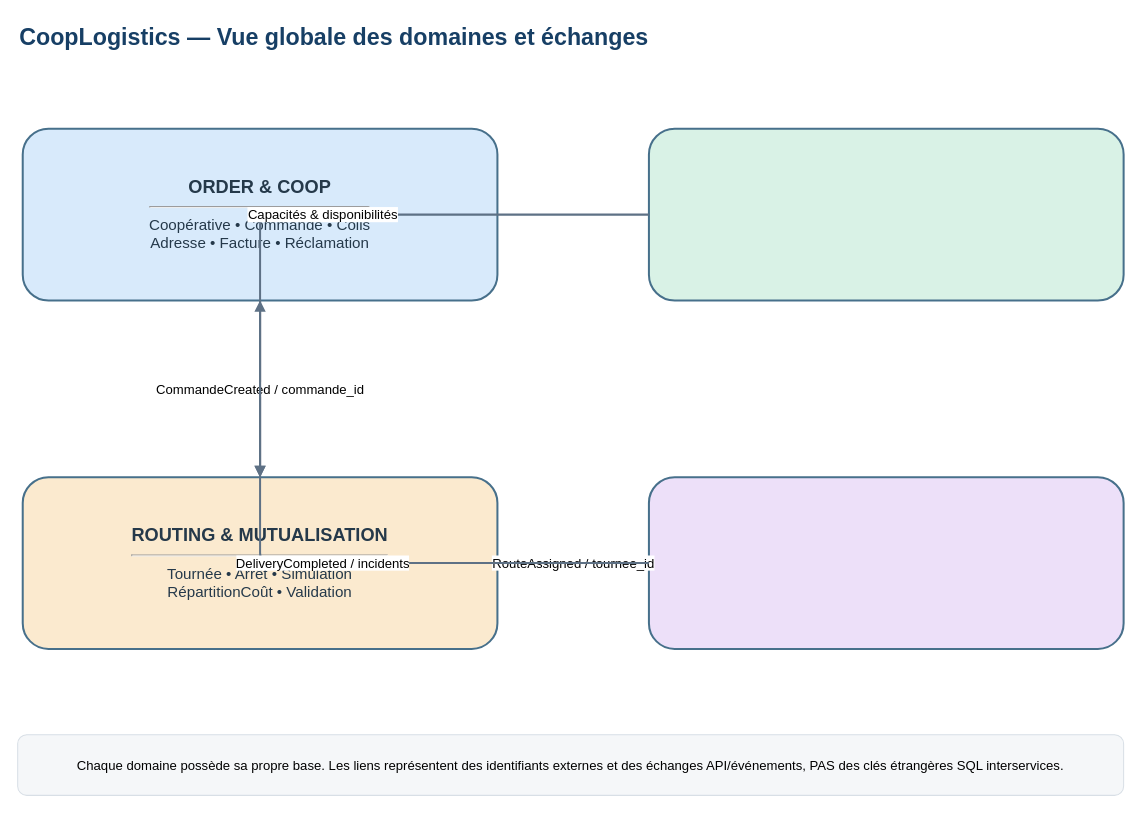
The diagram is 1146 pixels wide and 813 high, and some of its shapes have lost their labels. Here are the shapes that lost their labels. From the top down, the box of each, then its label:
(647, 127, 1124, 301): FLEET & DRIVER Véhicule • Chauffeur Disponibilité • Affectation
(647, 476, 1124, 649): DELIVERY & TRACKING Livraison • PreuveLivraison Incident • PositionGPS
